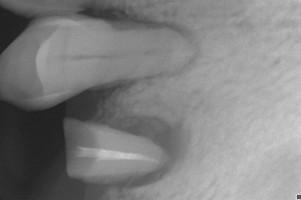Dental Caries: (82, 7, 202, 104)
Furcation Involvement: (109, 116, 184, 187)
